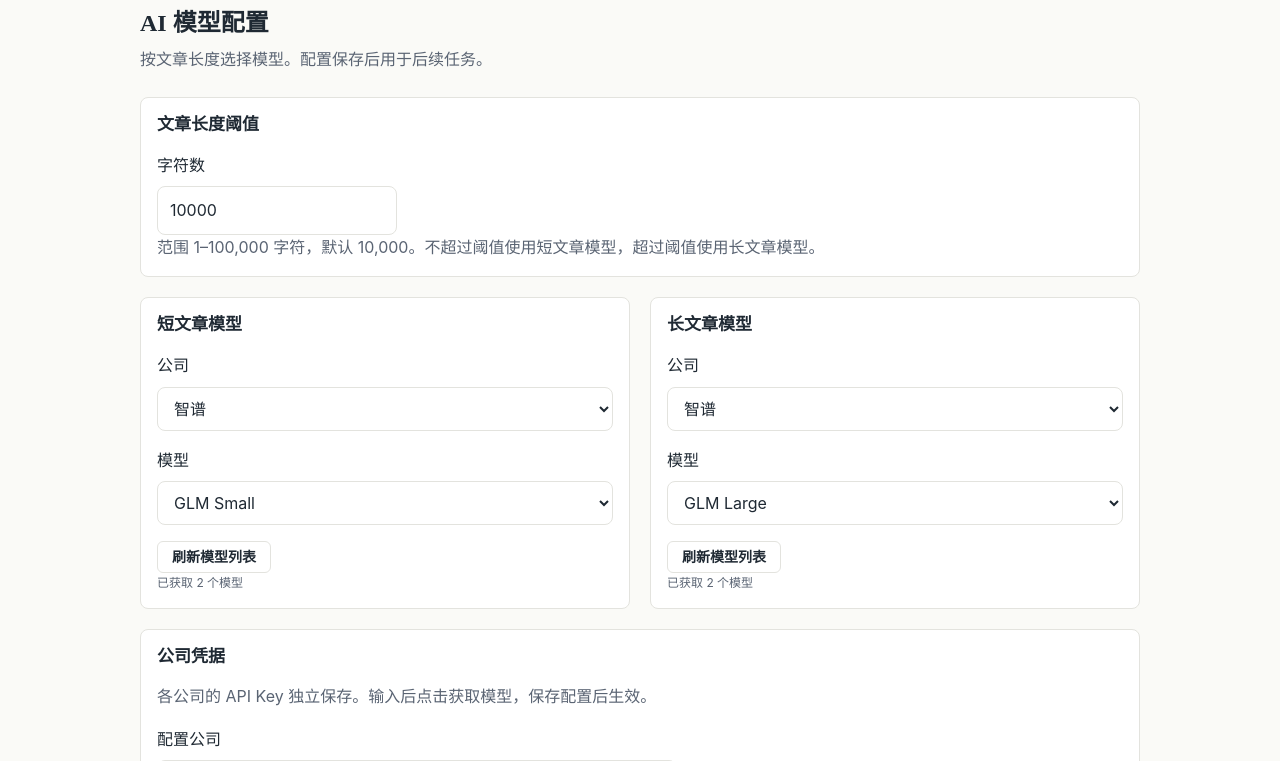
Test: invalidates both route selections on endpoint change and ignores an old response
Expected: the number field labelled "字符数" is shown, top-left (157, 186), bottom-right (397, 235)
Expected: the text "正在连接模型服务…" is not shown
Click the 1st button "刷新模型列表" at (214, 557), box top-left (157, 541), bottom-right (271, 573)
(page scrolled)
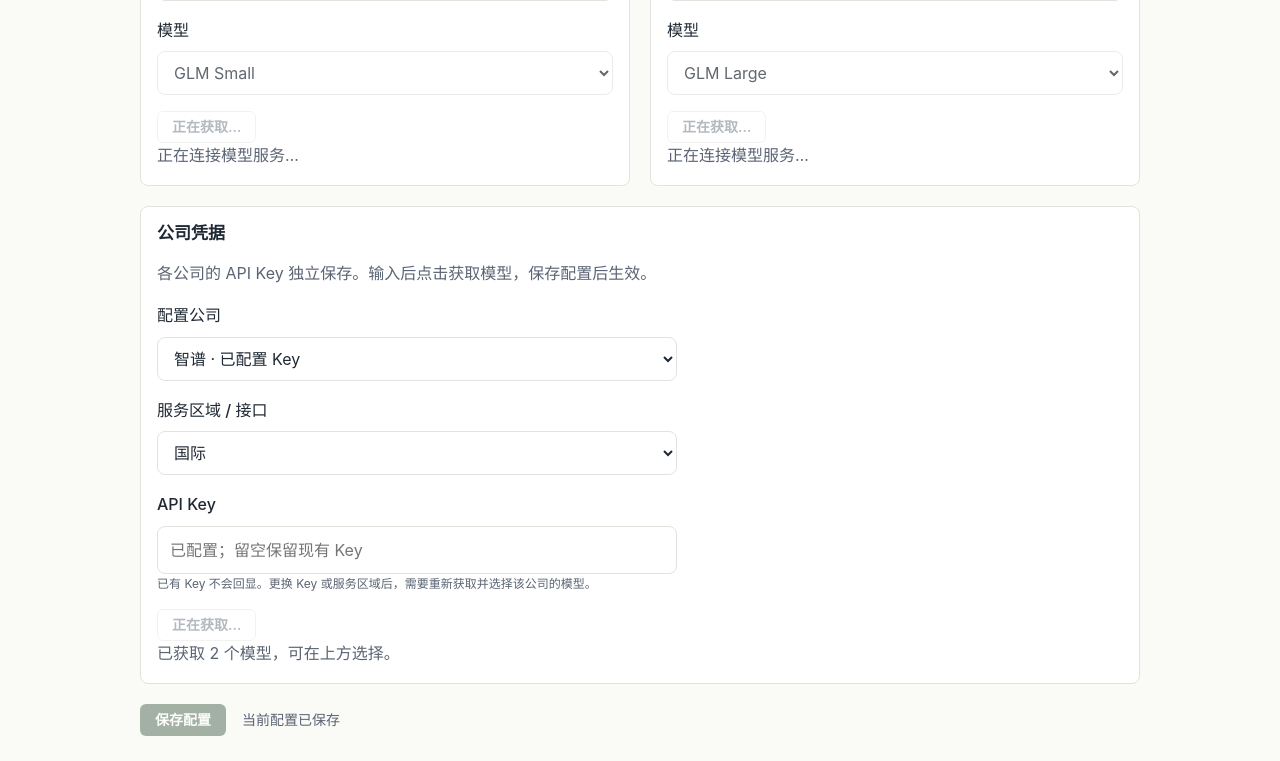
Select "中国" in the dropdown labelled "服务区域 / 接口" at (417, 453), box top-left (157, 431), bottom-right (677, 475)
(page scrolled)
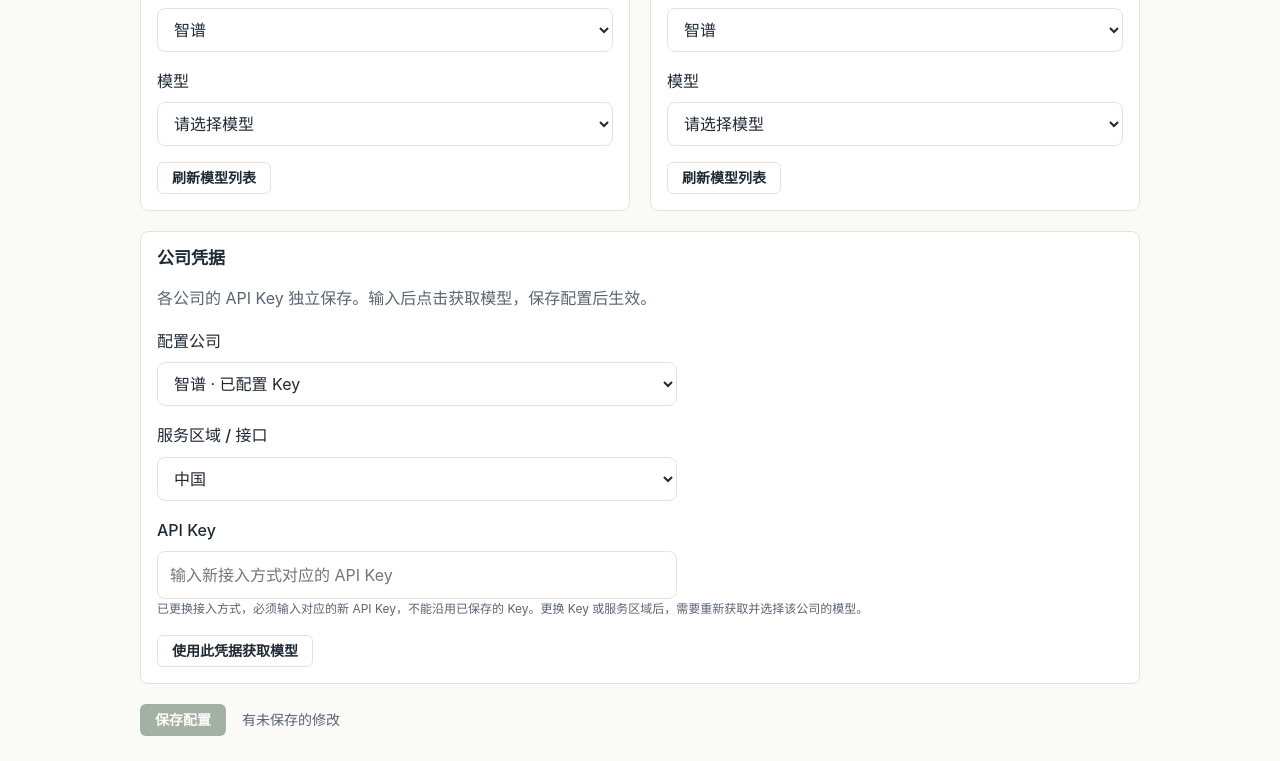
Expected: the button "保存配置" is disabled, top-left (140, 704), bottom-right (226, 736)
Expected: the 1st dropdown labelled "模型" shows "请选择模型", top-left (157, 102), bottom-right (613, 146)
Expected: the 2nd dropdown labelled "模型" shows "请选择模型", top-left (667, 102), bottom-right (1123, 146)
